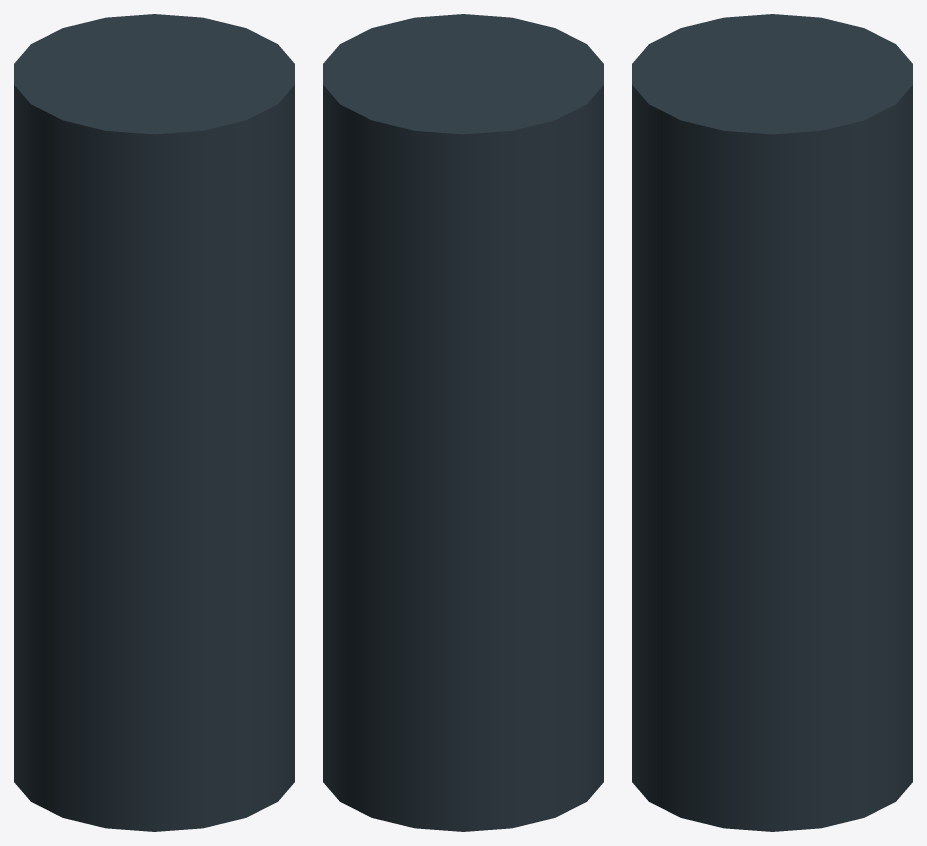
Rendered from columnaA.DAE.
The picture shows the model from 3 angles, left to right: view 1: azimuth 30°, elevation 25°; view 2: azimuth 150°, elevation 25°; view 3: azimuth 270°, elevation 25°; orthographic projection.
Parts seen in each view (by area): view 1: columnaA; view 2: columnaA; view 3: columnaA.
Boxes of the visible parts, left/top/right/bottom form: columnaA: left=14, top=14, right=294, bottom=831; columnaA: left=323, top=14, right=603, bottom=831; columnaA: left=632, top=14, right=912, bottom=831.
Size of the model in its own units: 1 by 0.9848 by 2.7.
